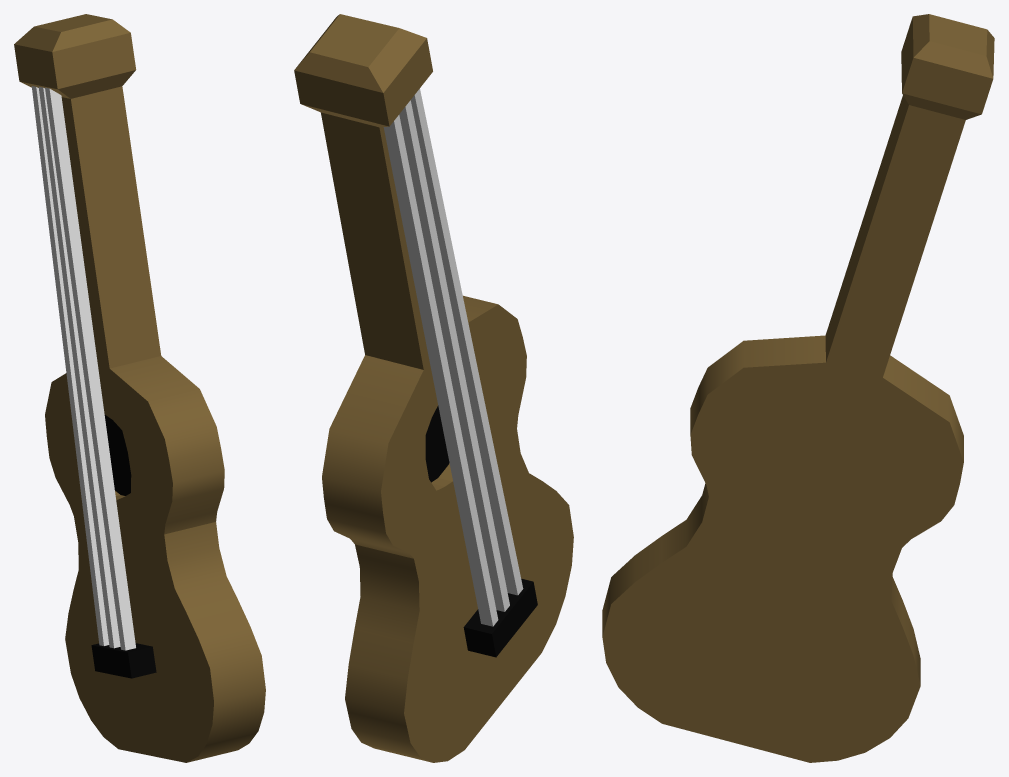
File: ObjectGuitar.fbx
3 renders of one model, left to right at view 1: azimuth 30°, elevation 25°; view 2: azimuth 150°, elevation 25°; view 3: azimuth 270°, elevation 25°, orthographic. The views are drawn at different scales.
Visible parts, largest first — view 1: pCube48; view 2: pCube48; view 3: pCube48.
Boxes of the visible parts, bbox=[...] form: pCube48: bbox=[14, 14, 265, 762]; pCube48: bbox=[294, 14, 573, 762]; pCube48: bbox=[602, 14, 994, 762].
Size of the model in its own units: 0.4271 by 3.14 by 1.55.
